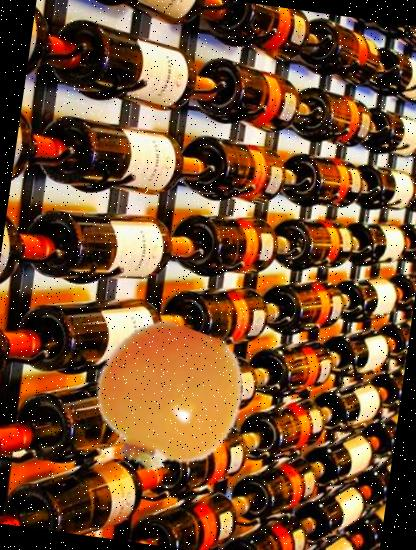Physalis: (82, 316, 250, 484)
